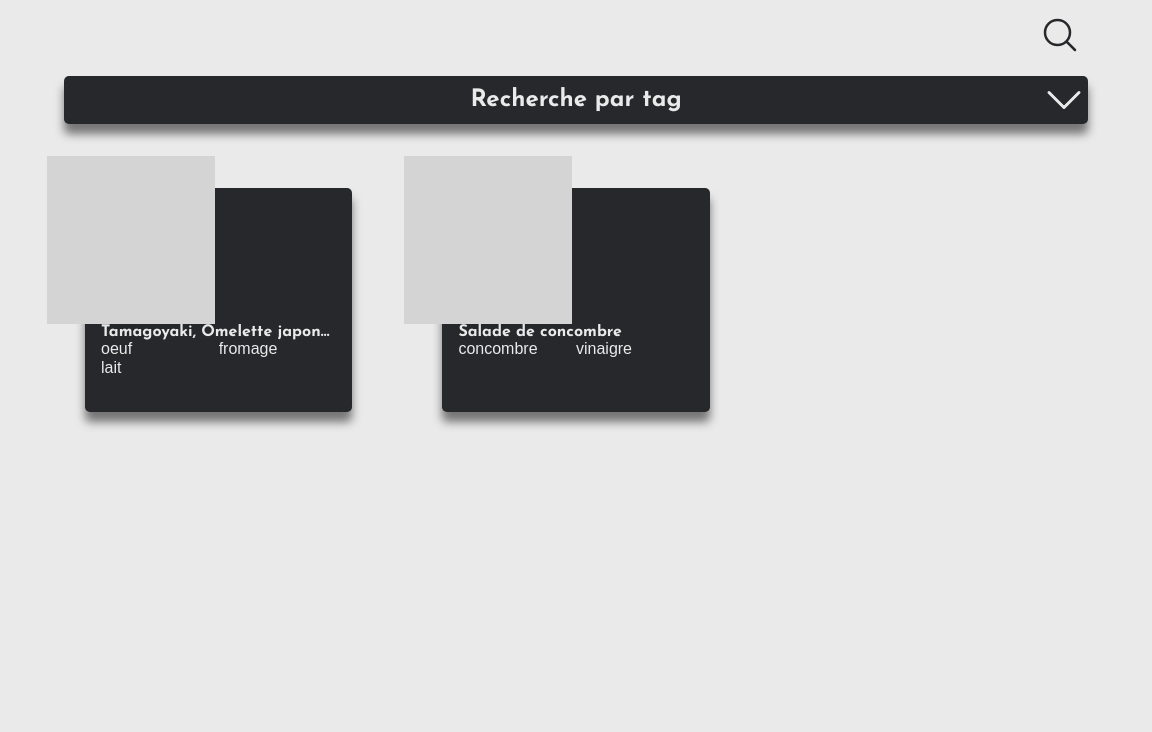
Test: Lorsqu`un utilisateur accède à la page d`accueil, RecipesDisplay est appelé › l`utilisateur clique sur la liste de tags et filtre les recettes par tags
Expected: the heading "Tamagoyaki, Omelette japonaise" is shown, [101,324,336,340]
Click the icon with test id "tag-list-icon" at {"x": 1064, "y": 100}, box [1040,76,1088,124]
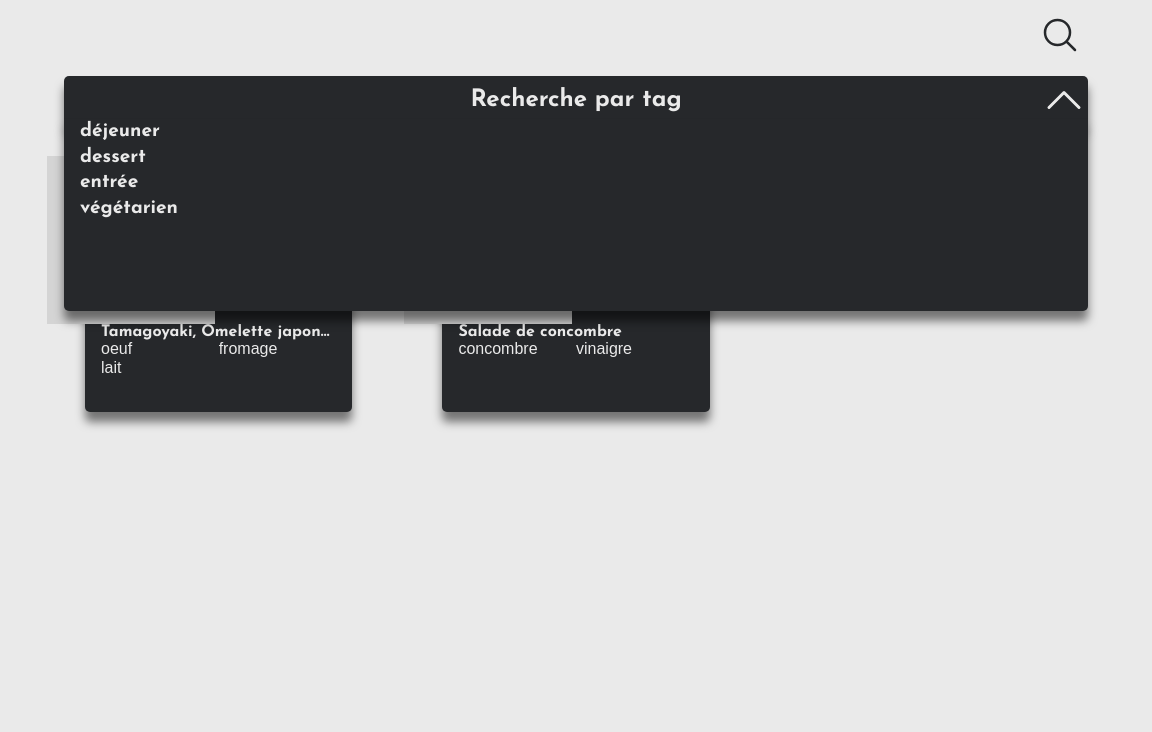
// Simule le clic sur un tag "végétarien"
Click the list item "végétarien" at {"x": 129, "y": 208}, box [80,198,178,218]
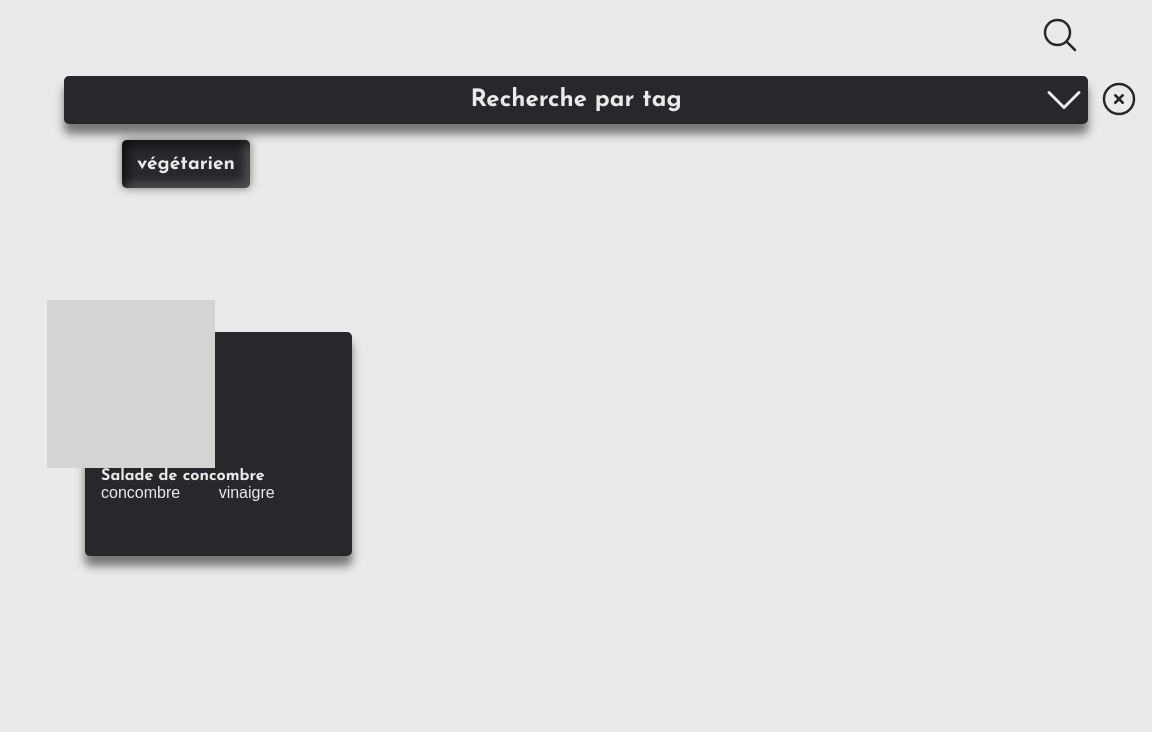
Expected: the heading "Salade de concombre" is shown, [101,468,265,484]
Expected: the link "Tamagoyaki, Omelette japonaise" is gone
